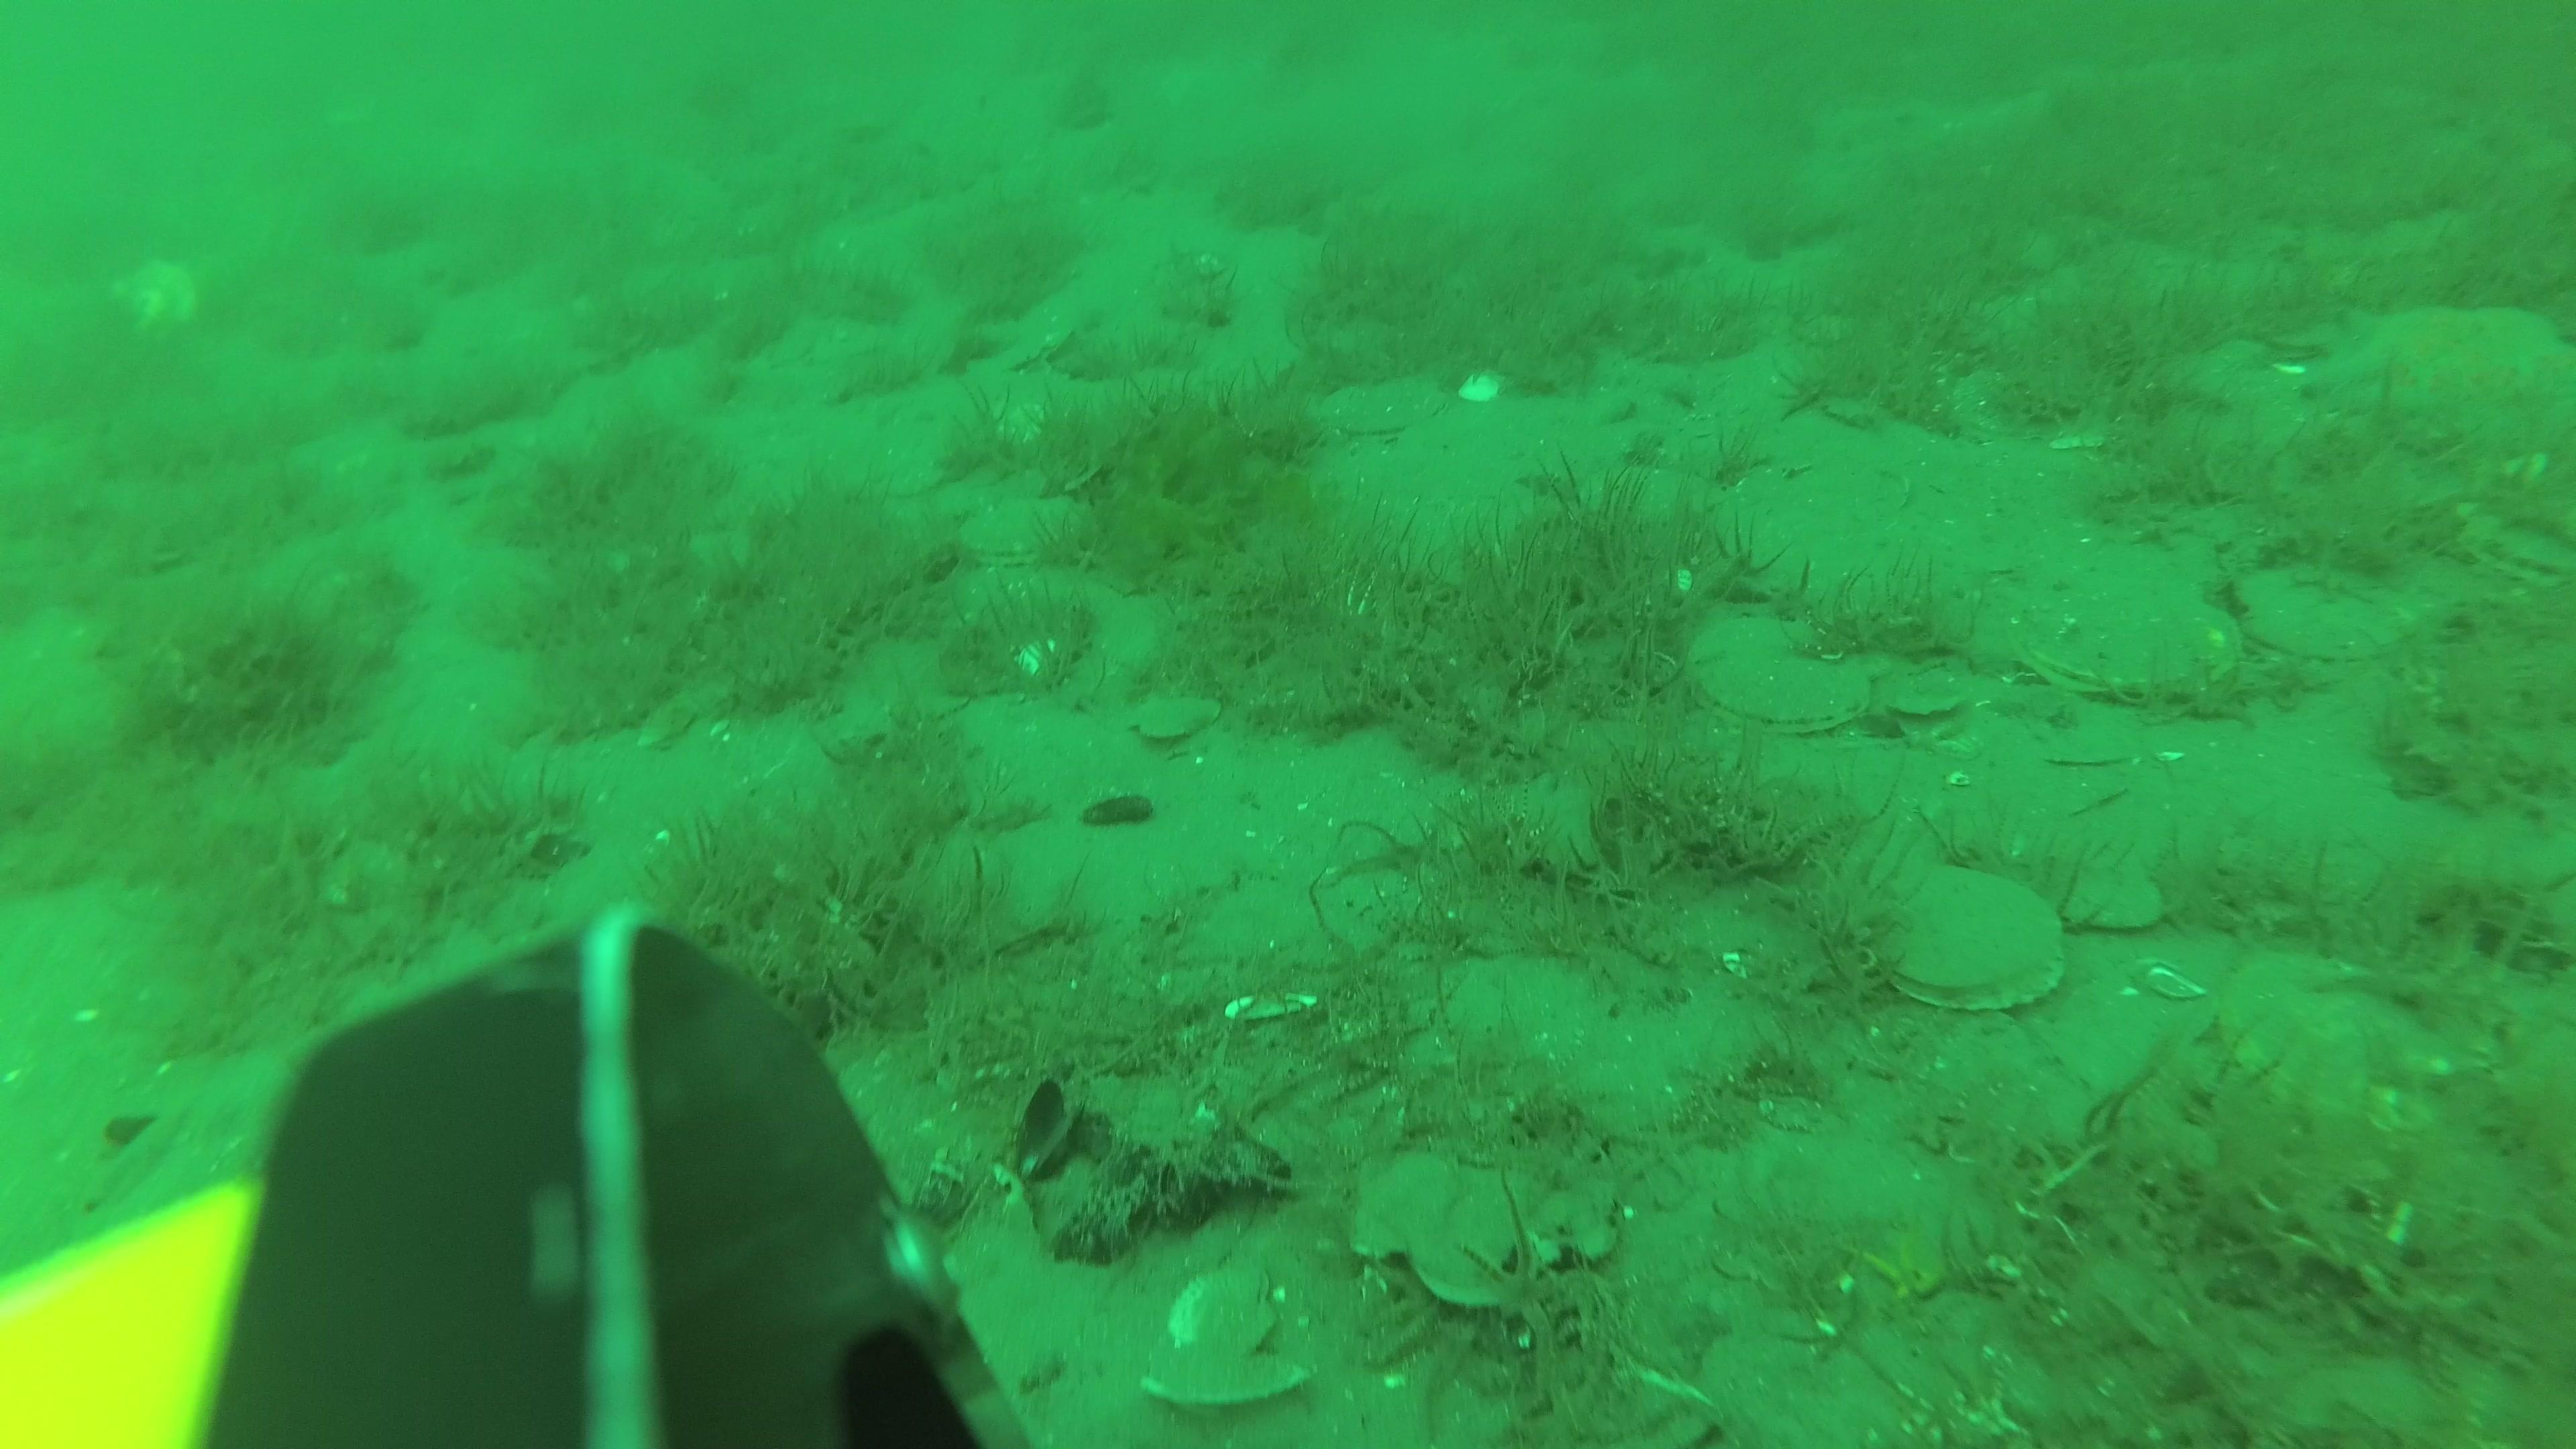scallop: (2226, 947, 2445, 1123), (1877, 860, 2068, 1014), (1136, 1265, 1304, 1407), (1693, 610, 1865, 732), (2029, 596, 2236, 697), (2238, 571, 2408, 656), (1327, 373, 1445, 442), (966, 495, 1086, 561), (2465, 518, 2576, 586), (108, 258, 196, 338), (2075, 874, 2160, 938), (1136, 694, 1219, 743), (1888, 686, 1969, 734)
starfish: (2307, 308, 2576, 453)
